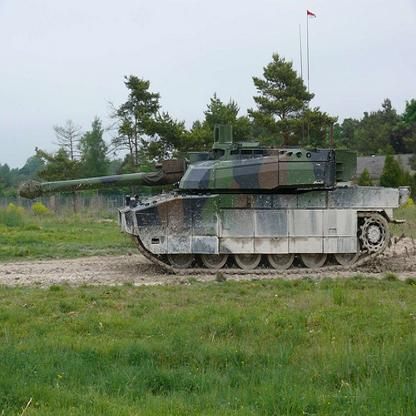Tank: (12, 133, 414, 287)
